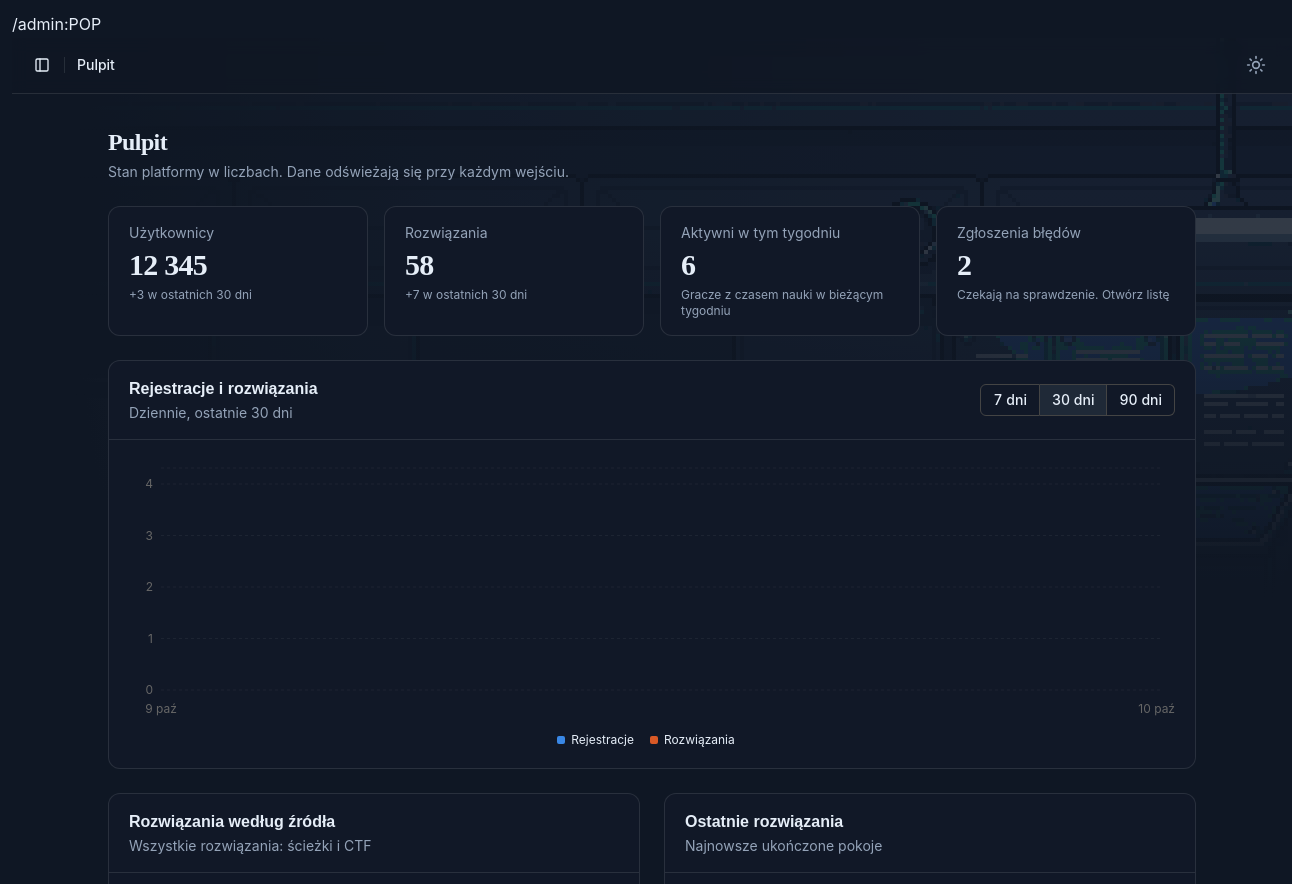
Test case: admin dashboard › shows platform totals and reloads the chart for another range
Expected: the text "Aktywni w tym tygodniu" is shown, top-left (681, 224), bottom-right (840, 241)
Expected: the text "12 345" is shown, top-left (129, 248), bottom-right (207, 281)
What coordinates should you click on to do the following:
click the radio button with aria-label "Ostatnie 7 dni"
I would click on:
 (1010, 400)
Its box is top-left (980, 384), bottom-right (1040, 416).
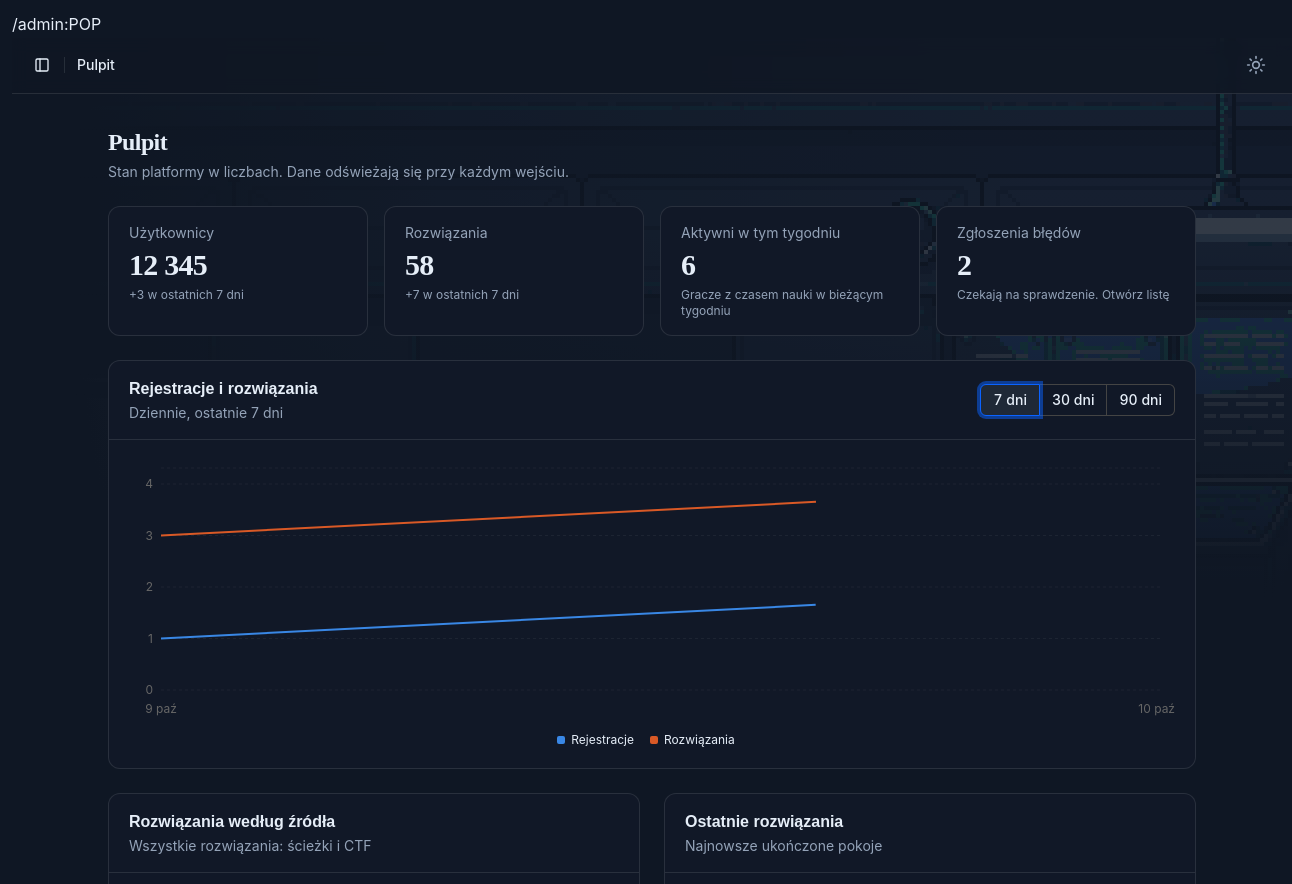
Result: the text "Dziennie, ostatnie 7 dni" is shown at top-left (129, 404), bottom-right (283, 421)
